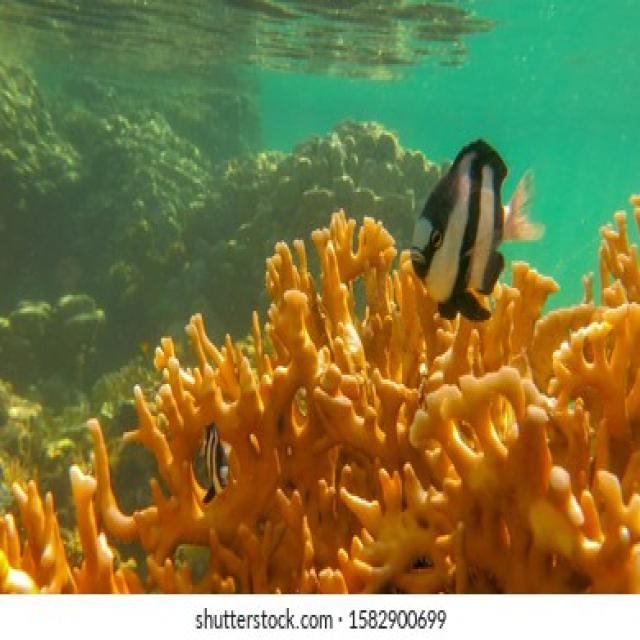ThreeStripedDamselfish: (410, 139, 546, 322)
